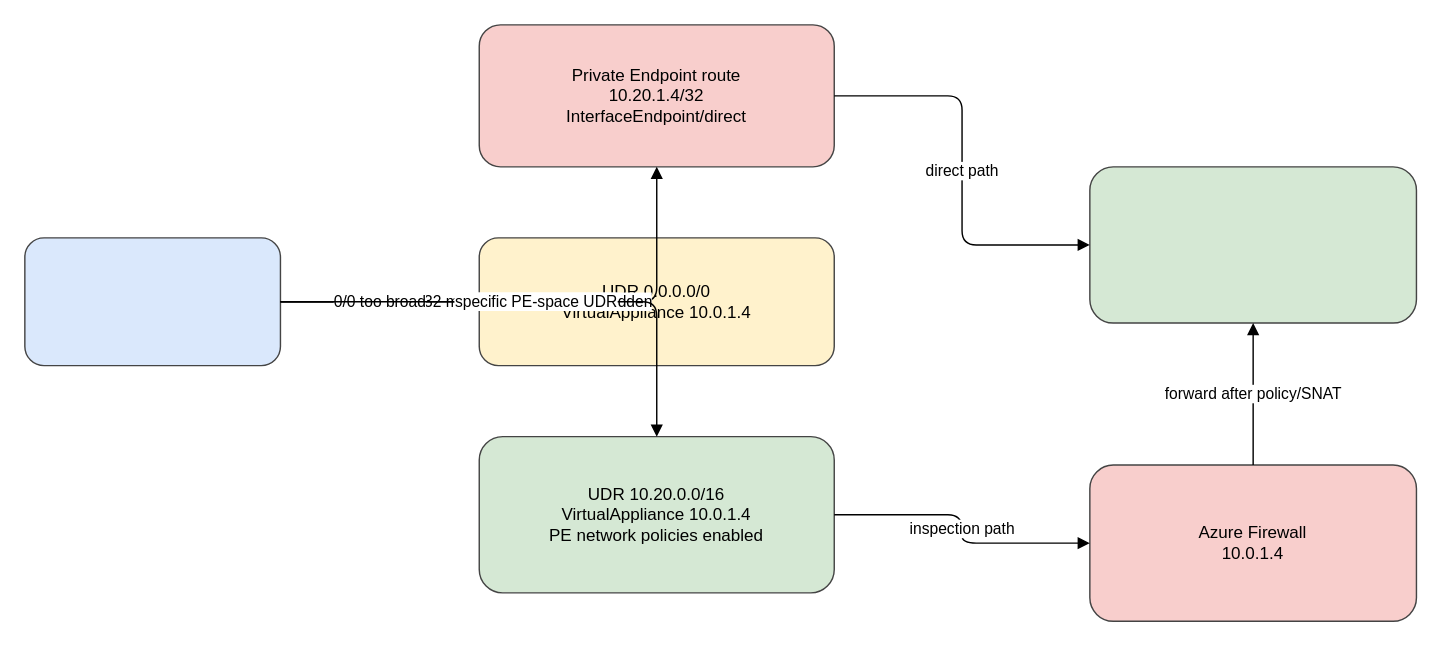
This 1441x646 diagram has some shape labels left out. Each missing label, with the centre of its shape:
Private Endpoint 10.20.1.4: the point at 1252,244
Source subnet 10.10.1.0/24: the point at 151,301
